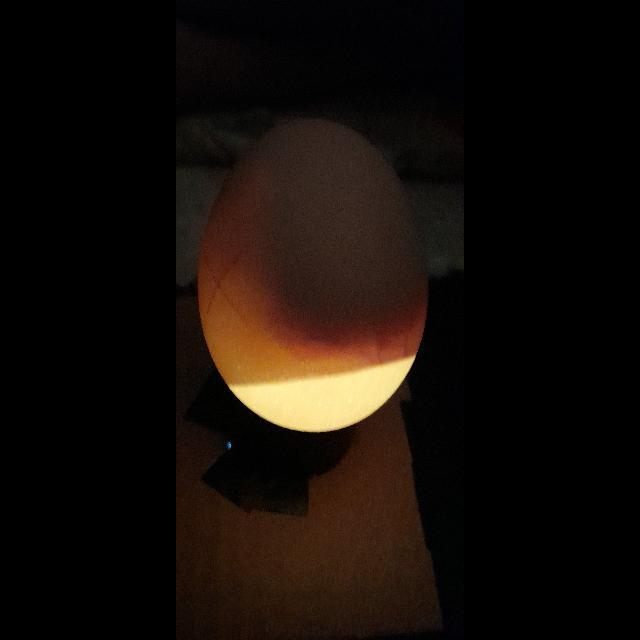Fertile: (194, 114, 433, 438)
